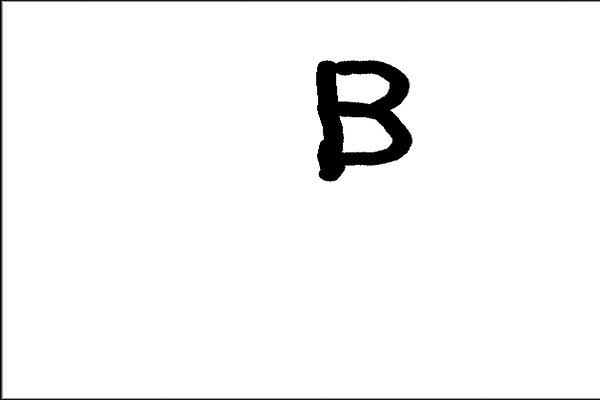B: (304, 50, 422, 193)
